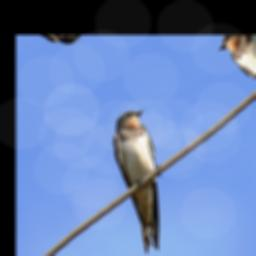Swallow: (79, 100, 208, 256)
